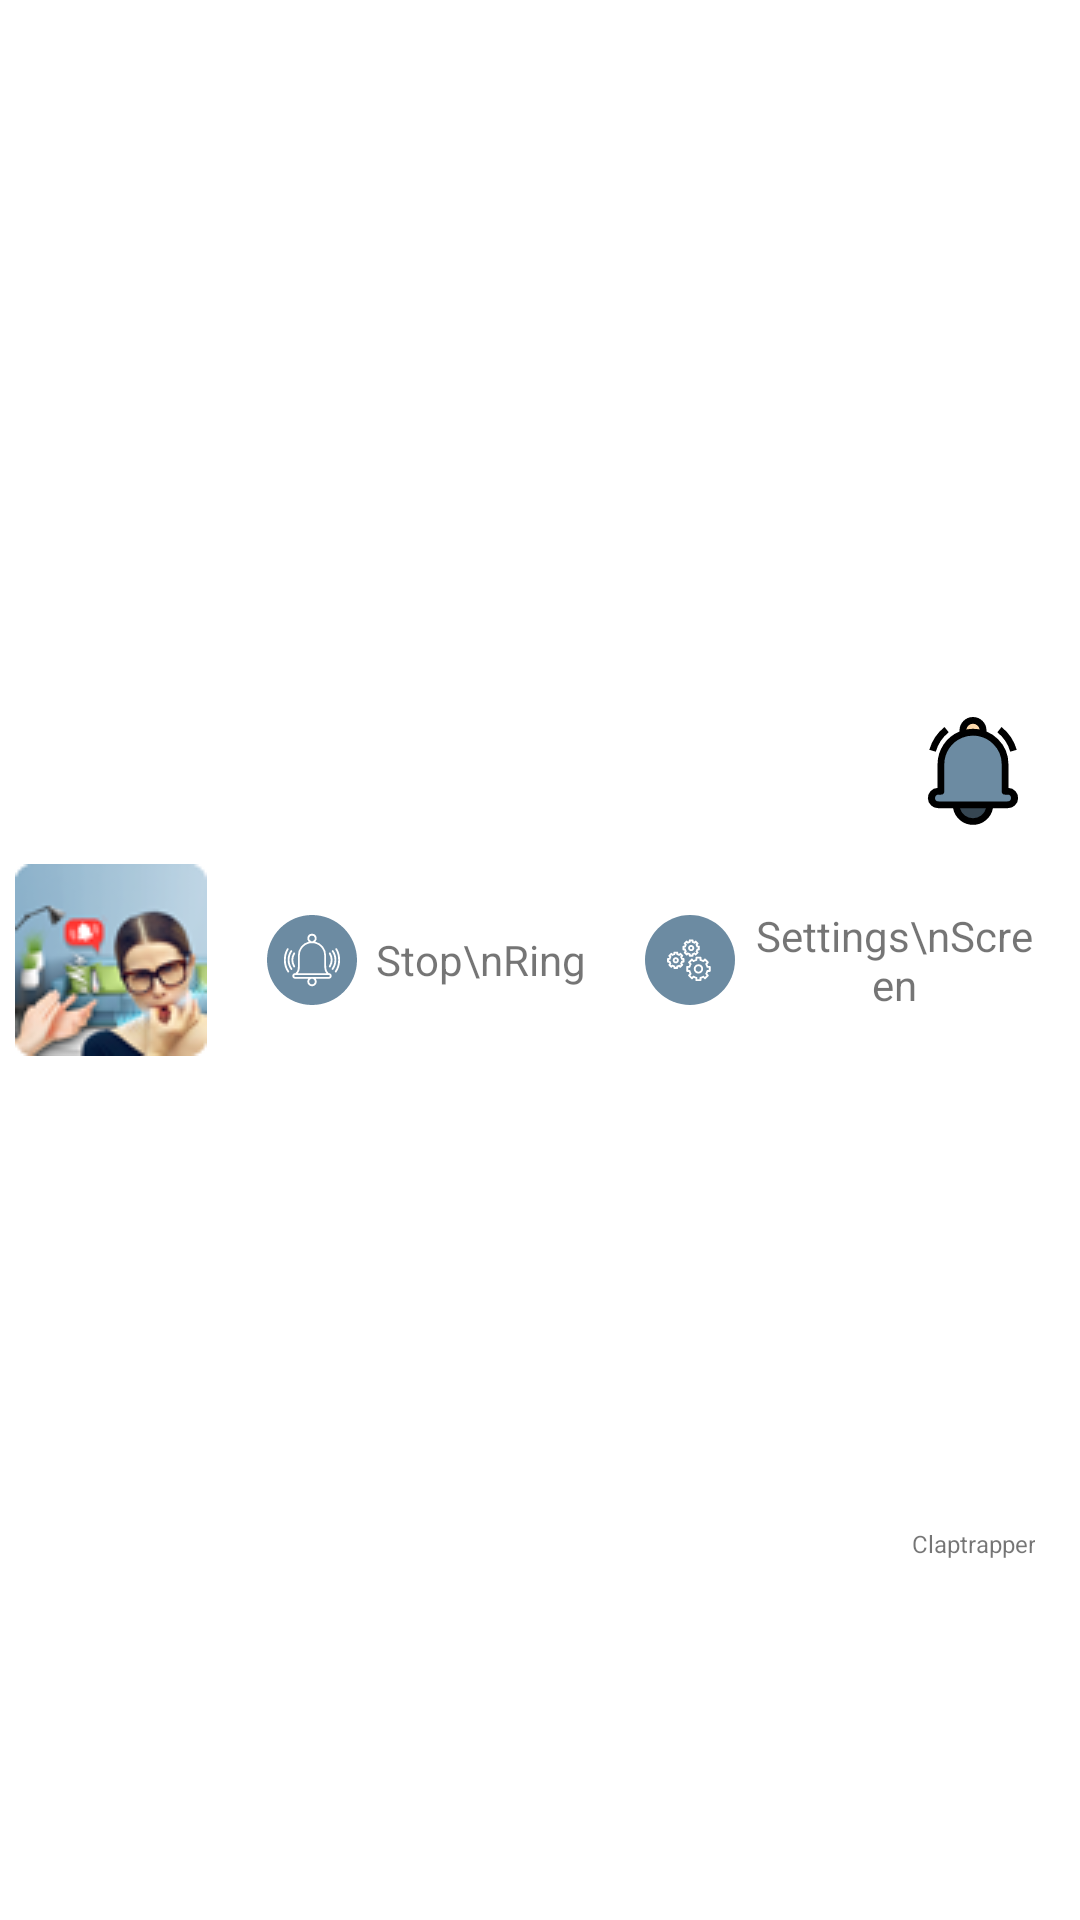

Icon click points for this 1080*1920 phone screenshot, format point (x, y):
notif settings: point (690, 960)
